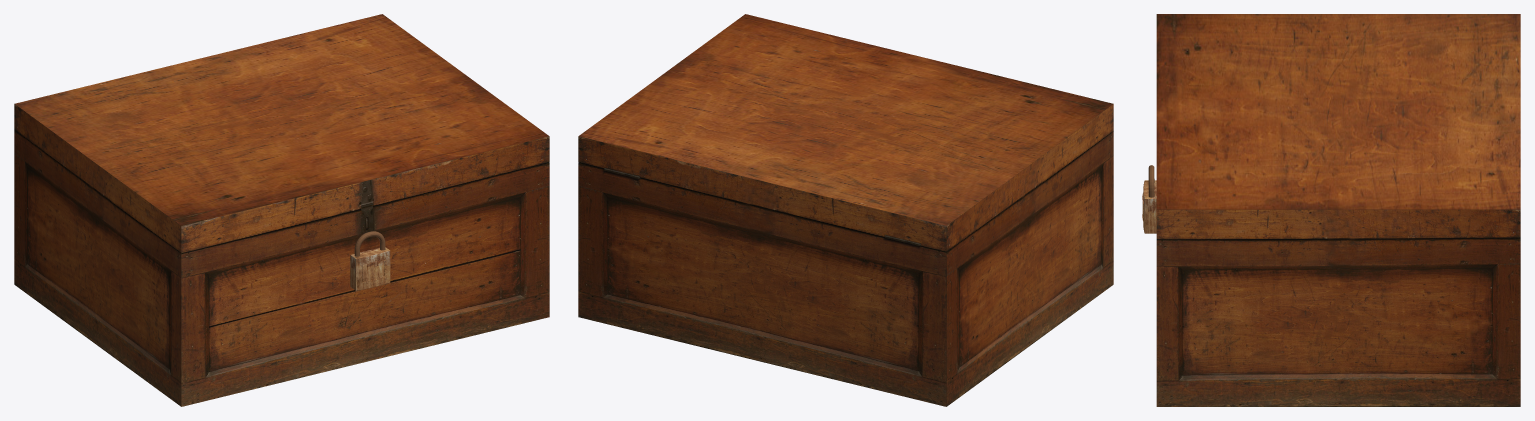
The model's file is Schatulle.fbx.
3 views of the same model, side by side, from view 1: azimuth 30°, elevation 25°; view 2: azimuth 150°, elevation 25°; view 3: azimuth 270°, elevation 25° (orthographic). The views are drawn at different scales.
Visible parts, largest first — view 1: Schatulle; view 2: Schatulle; view 3: Schatulle.
Boxes of the visible parts, <box> form: Schatulle: <box>14,14,549,406</box>; Schatulle: <box>578,14,1113,406</box>; Schatulle: <box>1142,14,1520,406</box>.
Bounding box in the file's own units: 92.86 × 43.63 × 75.82.
Materials: 3 (3 with a texture image).
